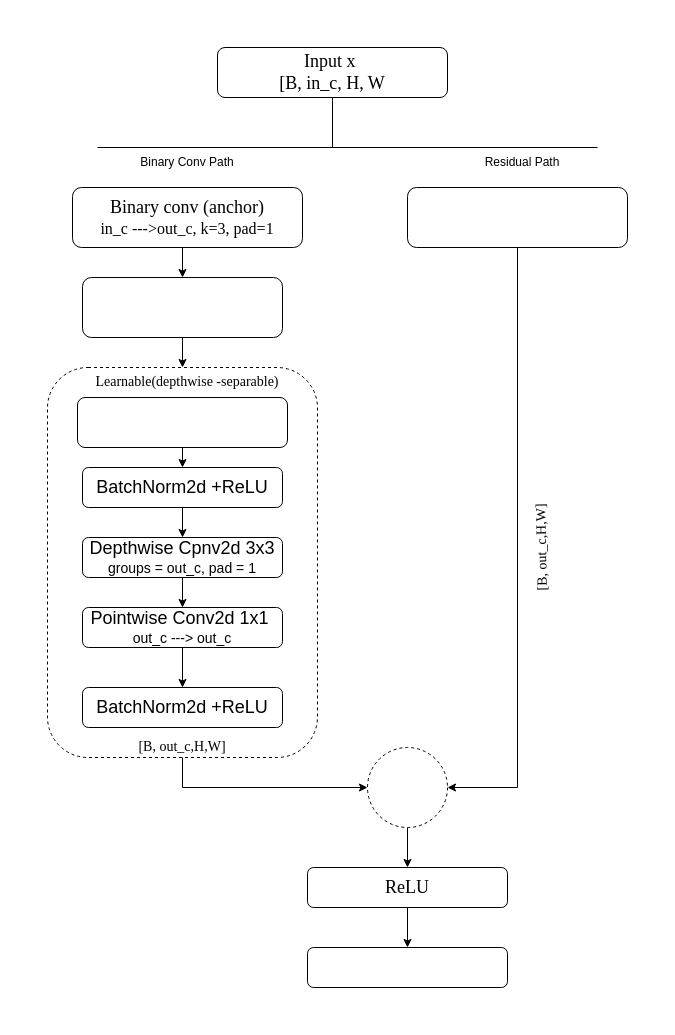
The diagram is 675 pixels wide and 1035 high, and some of its shapes have lost their labels. Here are the shapes that lost their labels. From the top down, the centre of each, then its label:
the point at 517,217: Reesidual_Proj conv 1x1( if in_c != out_c) or identity
the point at 182,307: BatchNorm2d +ReLU [B, out_c, H,W]
the point at 182,422: Conv2d 1x1 out_c ---> out_c, no bias
the point at 407,967: Output [B, out_c, H,W]
